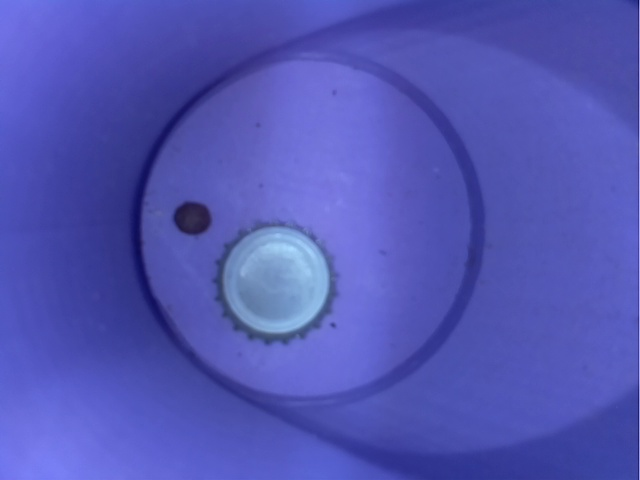capsule: (200, 211, 347, 346)
croquette: (166, 190, 219, 236)
